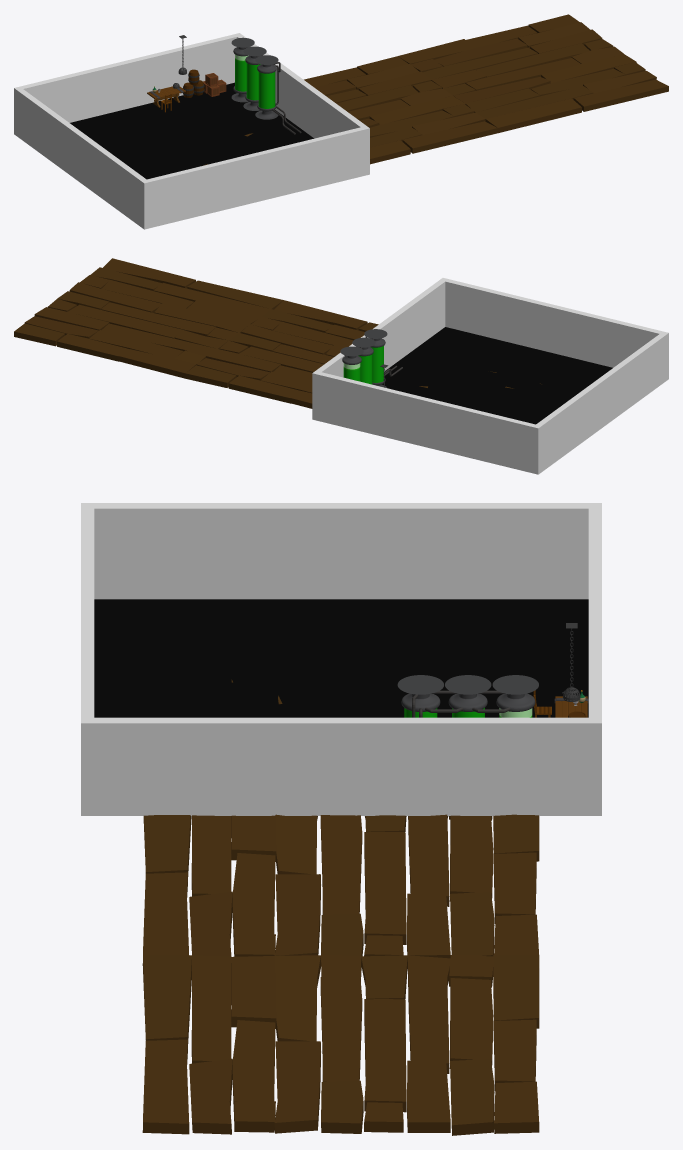
Rendered from Plate.fbx.
The picture shows the model from 3 angles, top to bottom: view 1: azimuth 30°, elevation 25°; view 2: azimuth 150°, elevation 25°; view 3: azimuth 270°, elevation 25°; orthographic projection. The views are drawn at different scales.
Parts seen in each view (by area): view 1: Plane, Planks, Undergolv, Glass, Table roof; view 2: Plane, Planks, Undergolv, Glass; view 3: Planks, Plane, Undergolv, Glass.
Part boxes in pixels (<box>): Plane: <box>14,33,369,229</box>; Planks: <box>202,14,668,165</box>; Undergolv: <box>70,82,313,179</box>; Glass: <box>231,37,301,134</box>; Table roof: <box>147,86,185,107</box>; Plane: <box>312,278,668,474</box>; Planks: <box>14,258,541,408</box>; Undergolv: <box>382,327,612,424</box>; Glass: <box>340,329,402,387</box>; Planks: <box>142,679,539,1135</box>; Plane: <box>81,503,601,815</box>; Undergolv: <box>94,599,588,717</box>; Glass: <box>397,675,538,717</box>.
Bounding box in the file's own units: 1911 × 238 × 797.
